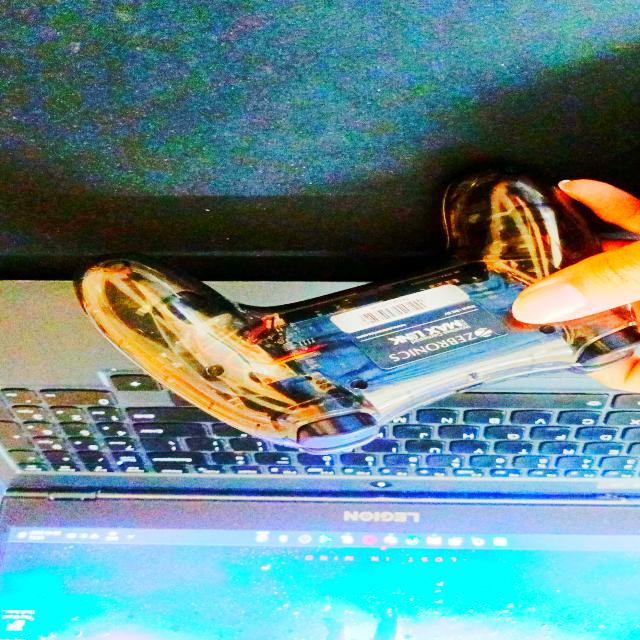gamepad: (73, 167, 640, 455)
